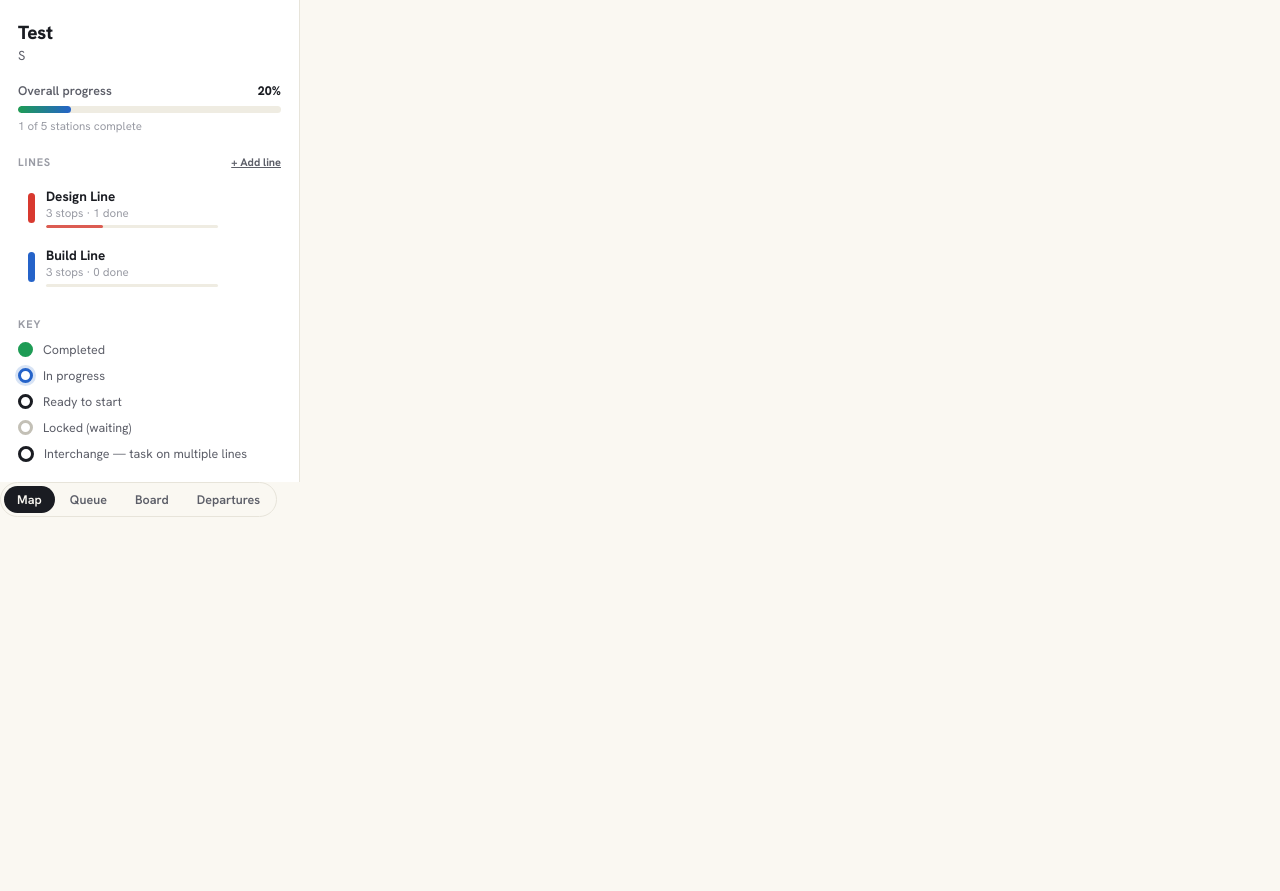
line filtering on the boards › Queue fades the stations off the selected line by default
This screenshot has width=1280, height=891.
Expected: the element with class "lines-list" is shown, [18,179,228,295]
Click the button "Queue" at point(88, 500), box [57,486,120,513]
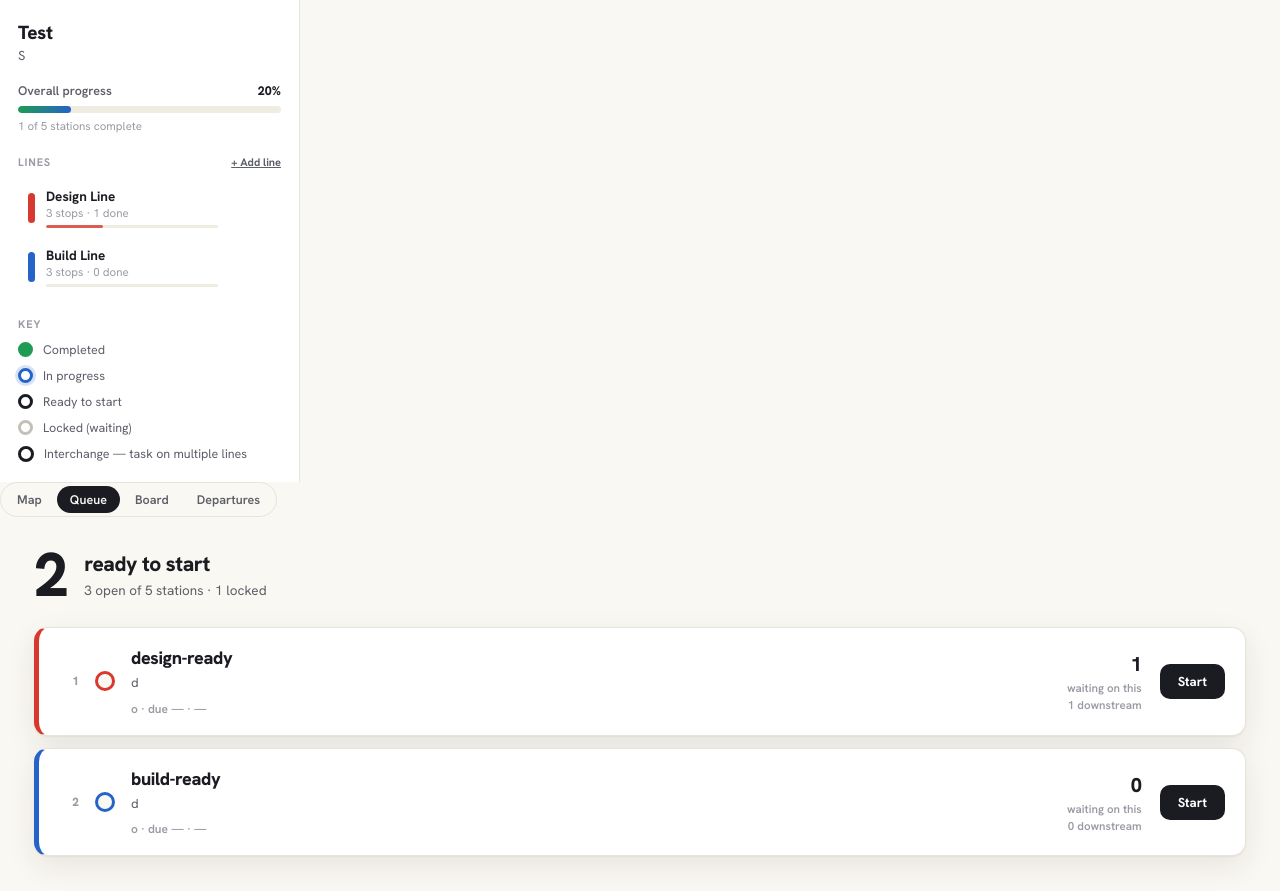
Click the button with class "line-row-btn" showing "Design Line 3 stops · 1 done" at point(123, 208), box [18,179,228,236]
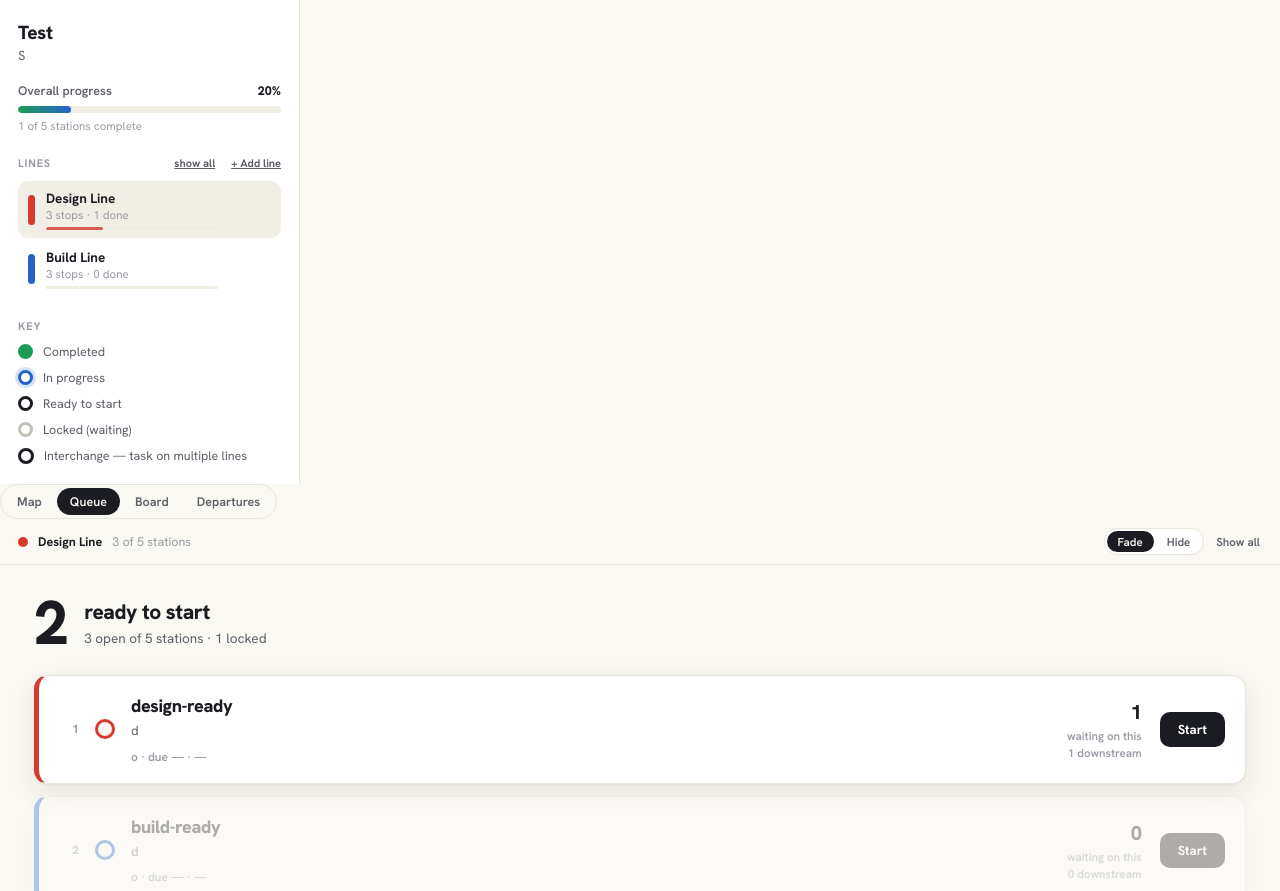
Expected: the element with class "filter-bar" is shown, [0,519,1279,565]
